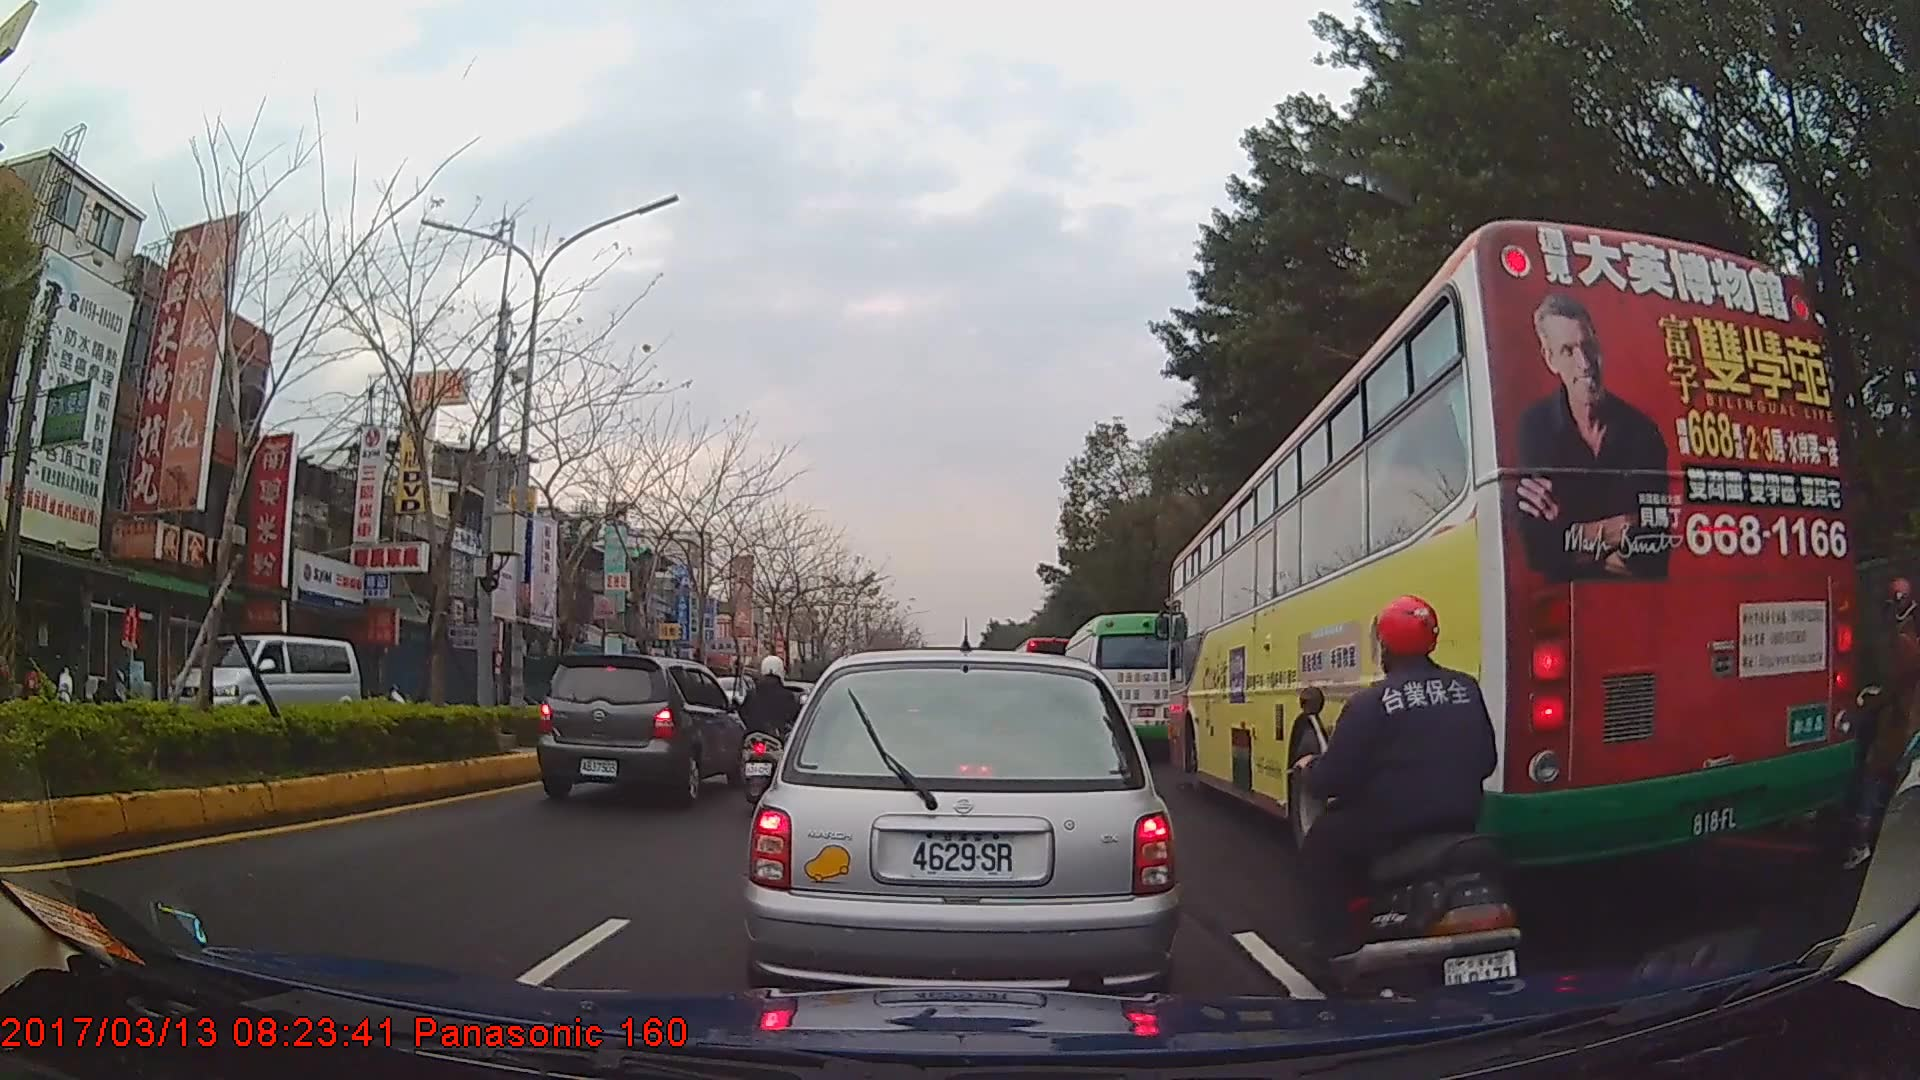rider: (1290, 591, 1532, 1025), (1829, 578, 1920, 874), (736, 655, 804, 792)
vehicle: (1168, 216, 1858, 881), (745, 650, 1178, 1010), (535, 654, 746, 803), (164, 635, 359, 747), (1060, 611, 1183, 757)
